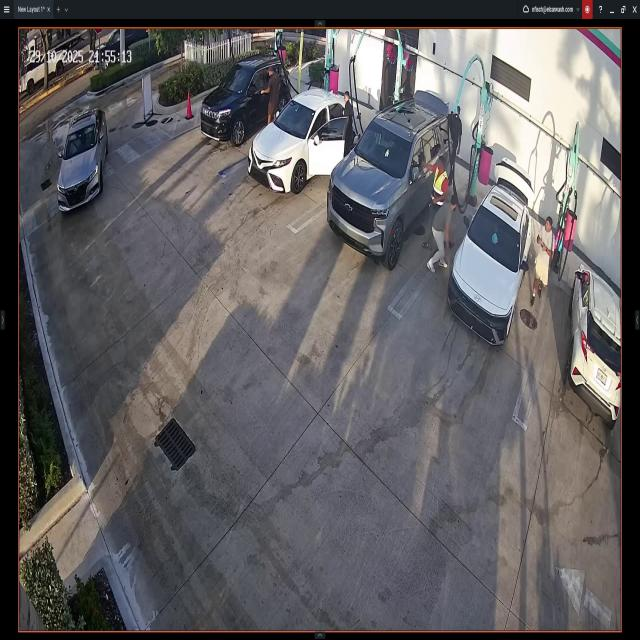Car: (329, 91, 453, 265), (450, 160, 534, 342), (249, 87, 362, 191), (570, 263, 622, 424), (202, 53, 290, 145), (58, 109, 105, 212), (98, 30, 148, 59)
